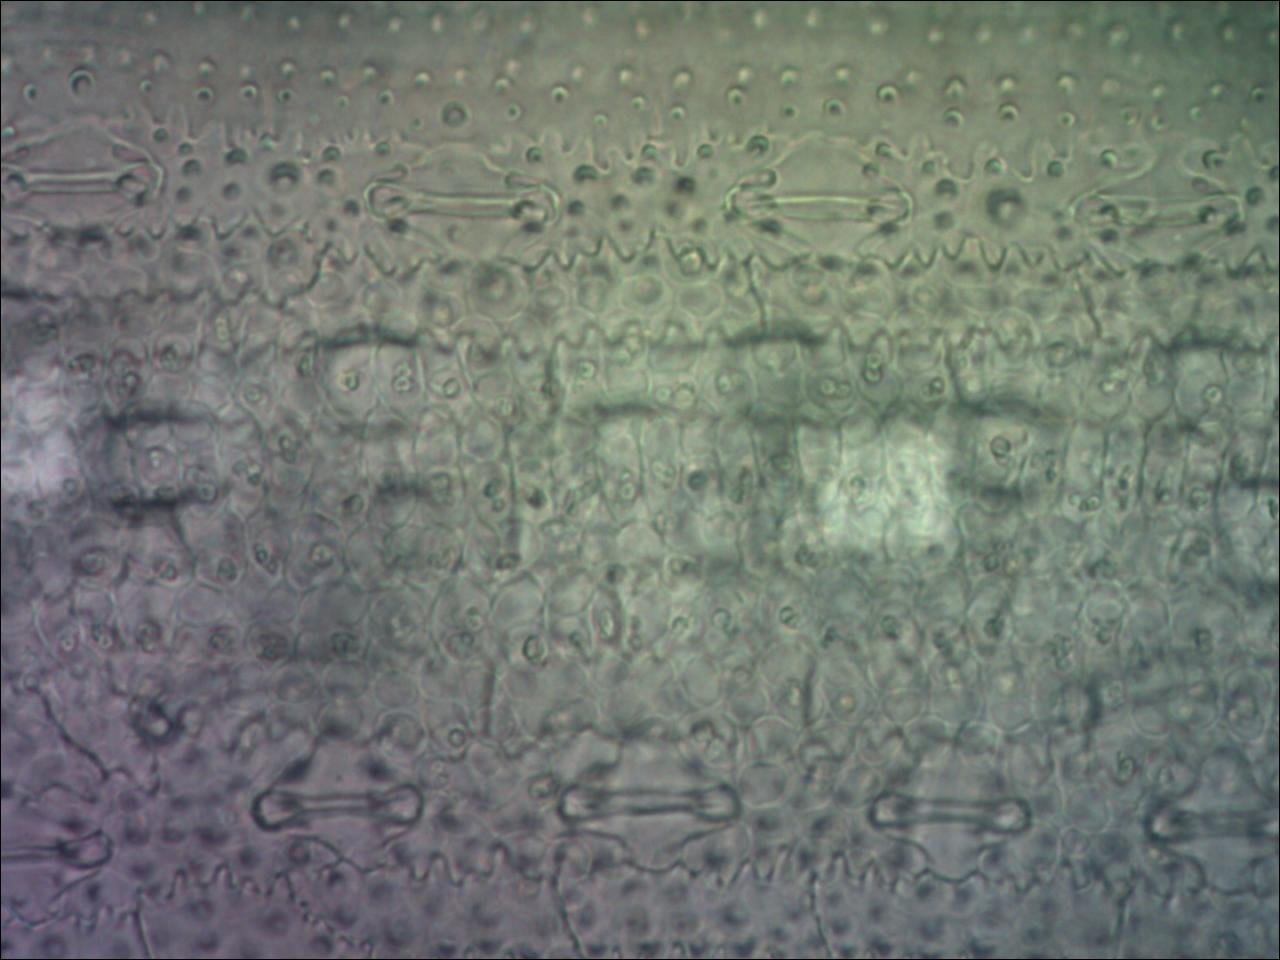stoma: (718, 125, 922, 282), (363, 134, 566, 282), (246, 731, 447, 871), (864, 733, 1039, 889), (556, 727, 743, 873), (1063, 147, 1250, 277), (1, 118, 170, 256), (1146, 747, 1280, 894), (1, 783, 112, 916)
